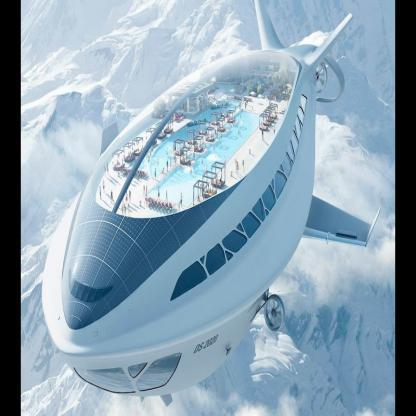CIV_Plane: (39, 0, 382, 402)
